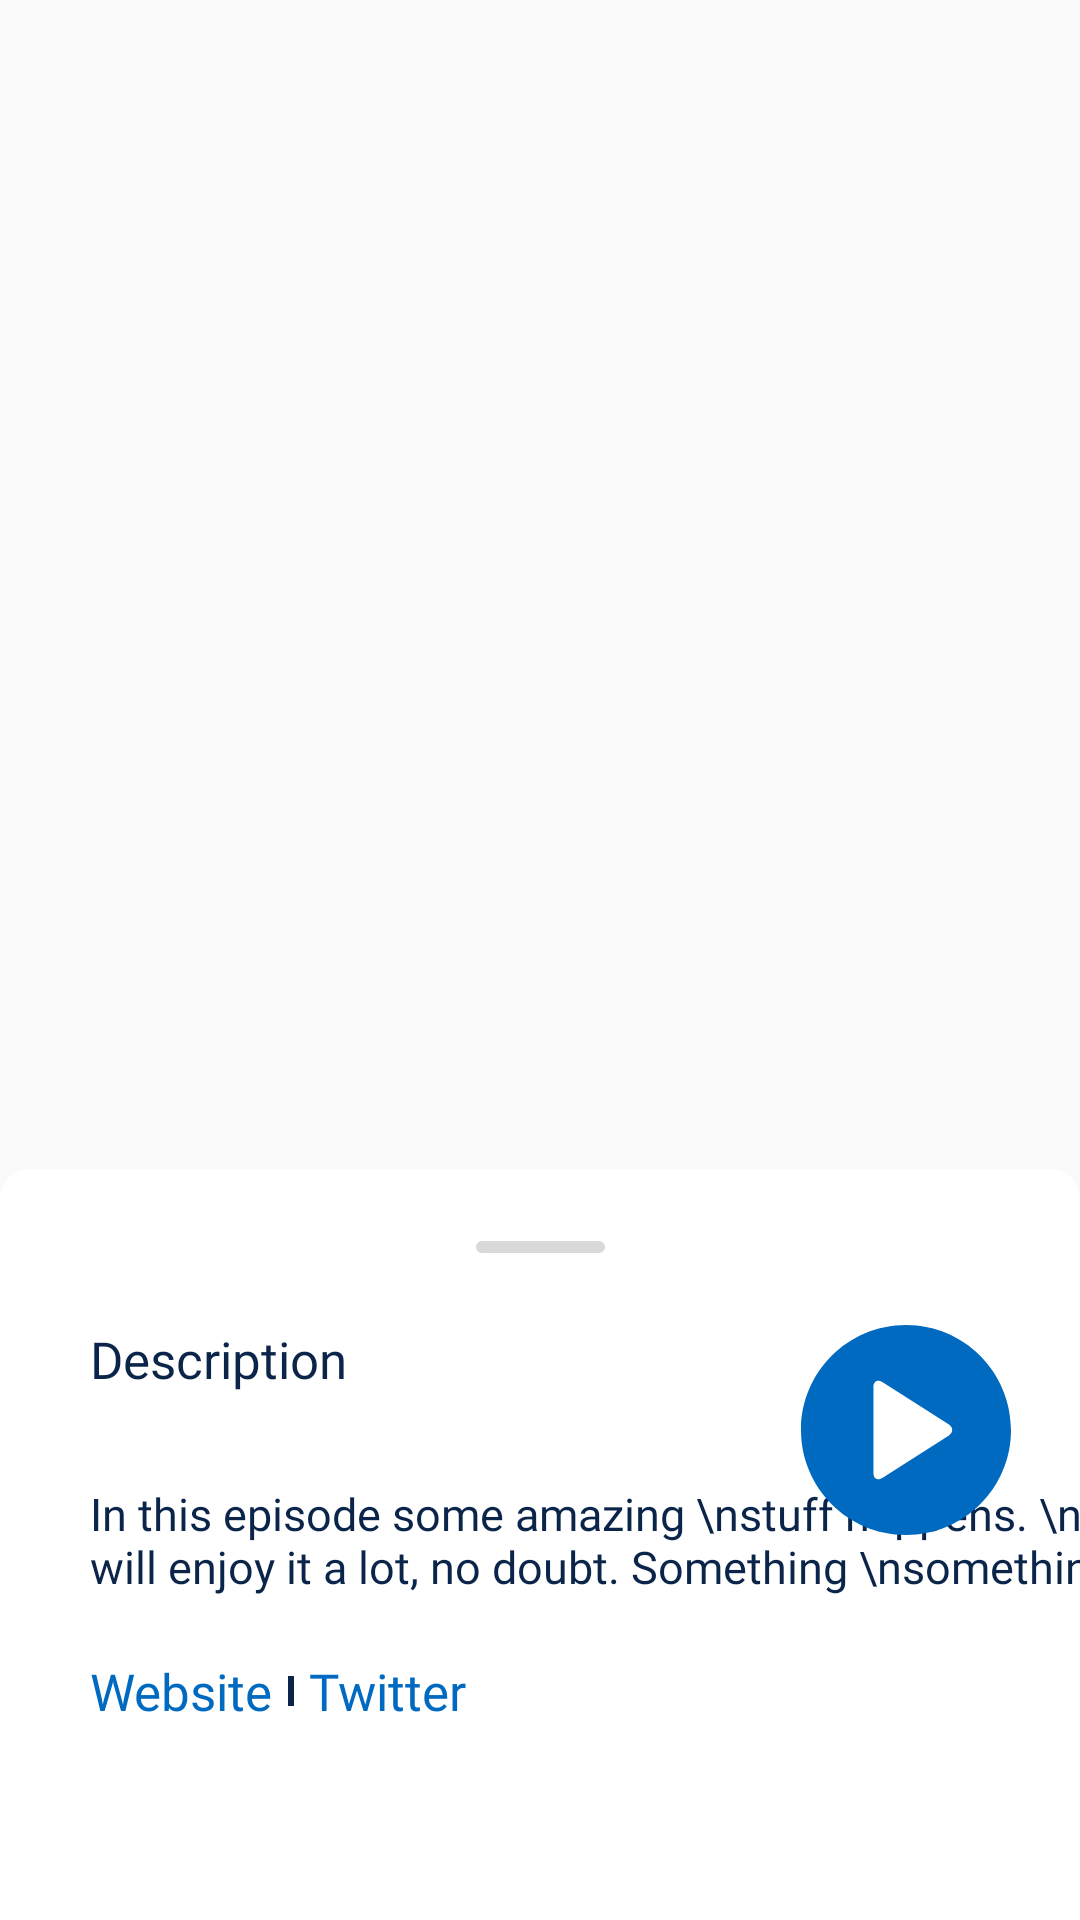

Icon click points for this 1080*1920 phone screenshot, format (x=x, y=y):
paly: (x=906, y=1430)
